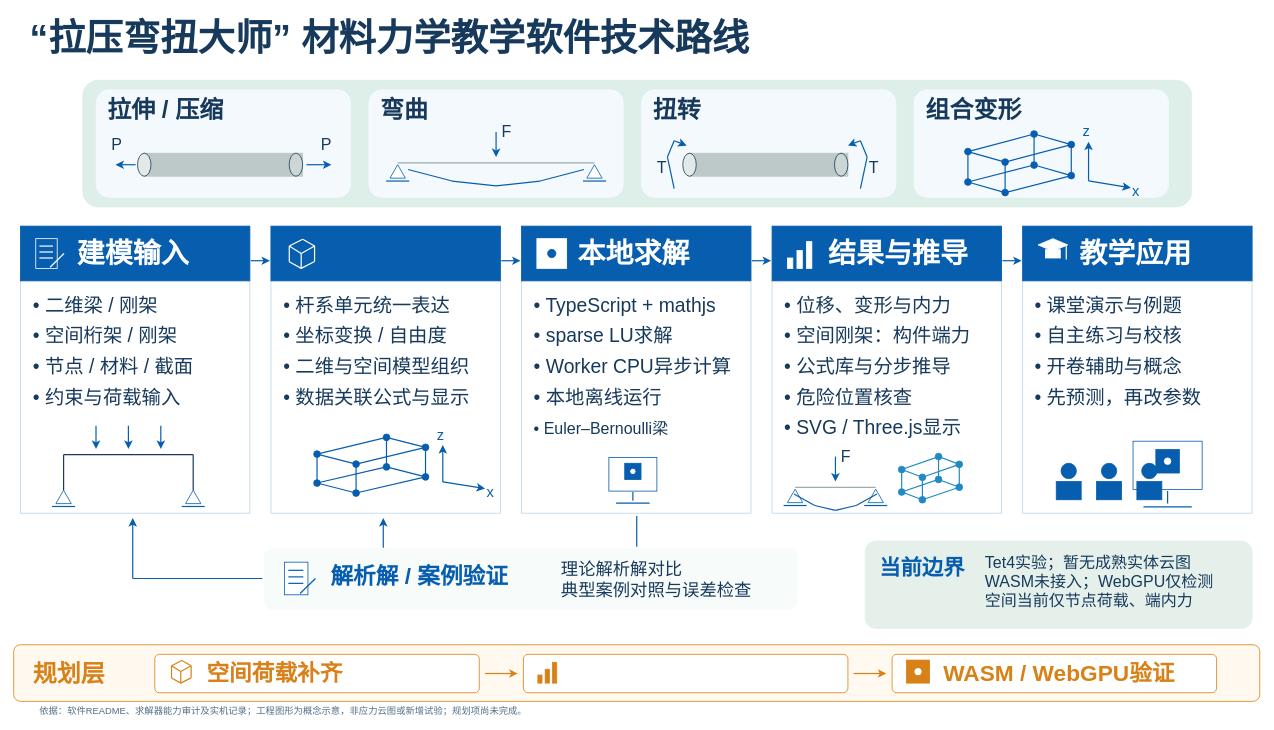
This 1274x730 diagram has some shape labels left out. The shapes that lost their labels are listed below. From the top down, each one's centre as x and y in pixels, then its label:
At point (385, 253): "统一模型".
At point (685, 673): "实体分析完善".
